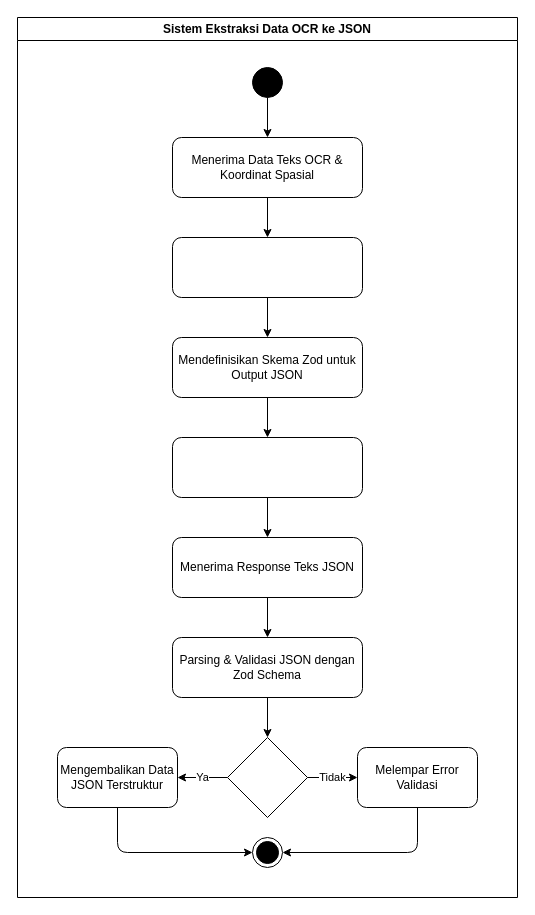
This 535x915 diagram has some shape labels left out. The shapes that lost their labels are listed below. From the top down, each one's centre as x and y in pixels, then its label:
At pixel 267 267: "Membentuk Prompt Instruksi Ekstraksi".
At pixel 267 467: "Memanggil API generateContent() dengan config.responseFormat".
At pixel 267 777: "Valid?".
